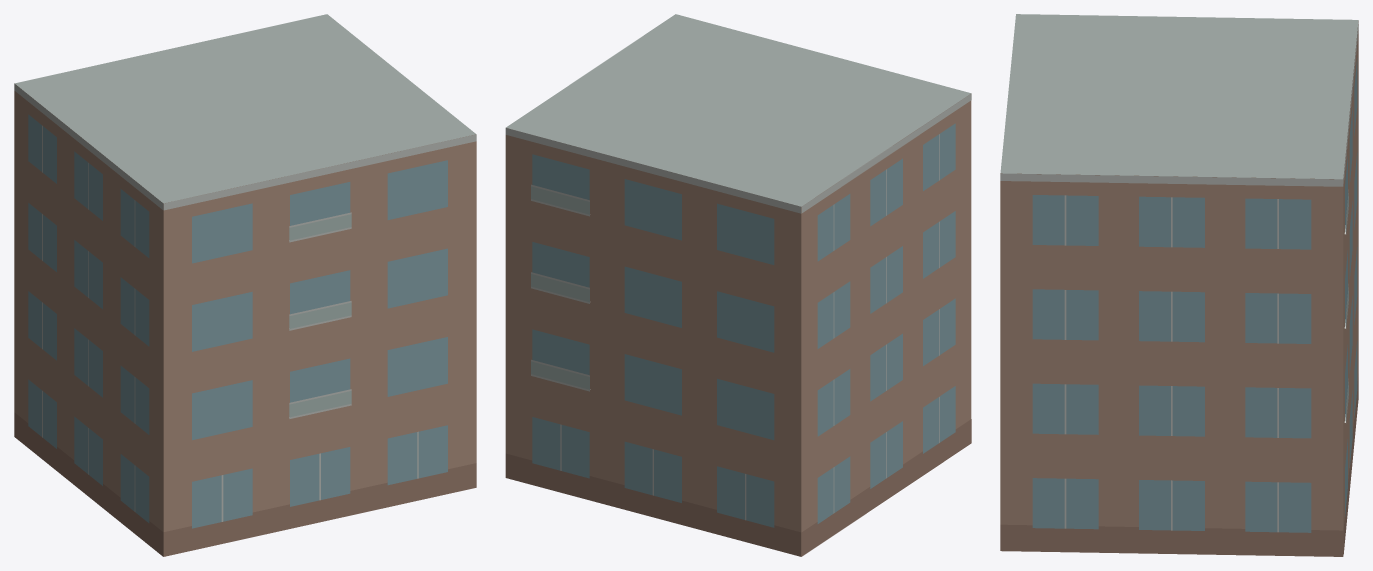
The model's file is residential-bdd57dee-ae33-49a5-aa37-67838078fce5.glb.
3 renders of one model, left to right at view 1: azimuth 30°, elevation 25°; view 2: azimuth 150°, elevation 25°; view 3: azimuth 270°, elevation 25°, orthographic. The views are drawn at different scales.
Visible parts, largest first — view 1: residential-bdd57dee-ae33-49a5-aa37-67838078fce5.tmp; view 2: residential-bdd57dee-ae33-49a5-aa37-67838078fce5.tmp; view 3: residential-bdd57dee-ae33-49a5-aa37-67838078fce5.tmp.
Boxes of the visible parts, x1,y1,x2,y2 form: residential-bdd57dee-ae33-49a5-aa37-67838078fce5.tmp: [14, 14, 476, 556]; residential-bdd57dee-ae33-49a5-aa37-67838078fce5.tmp: [505, 14, 971, 556]; residential-bdd57dee-ae33-49a5-aa37-67838078fce5.tmp: [1000, 14, 1358, 556].
Bounding box in the file's own units: 11.46 × 12.2 × 10.5.
